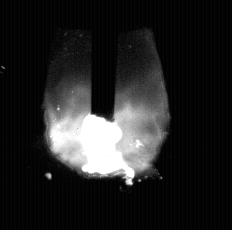arame: (91, 0, 116, 121)
poca: (44, 0, 168, 230)
